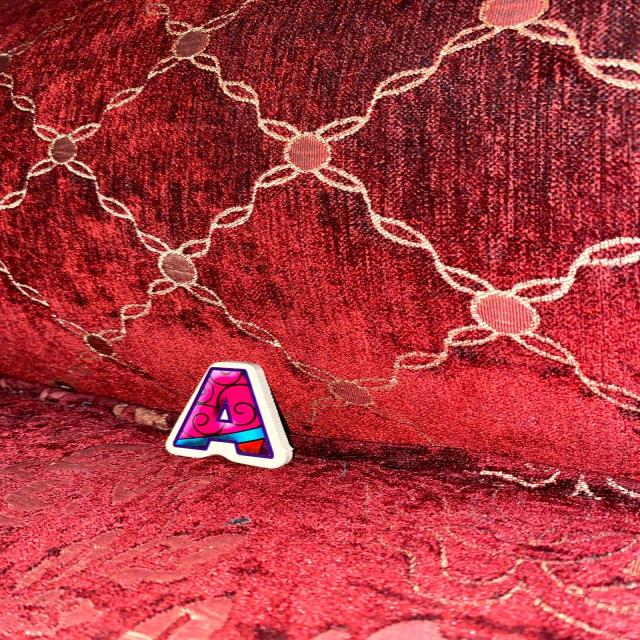A: (165, 362, 292, 469)
